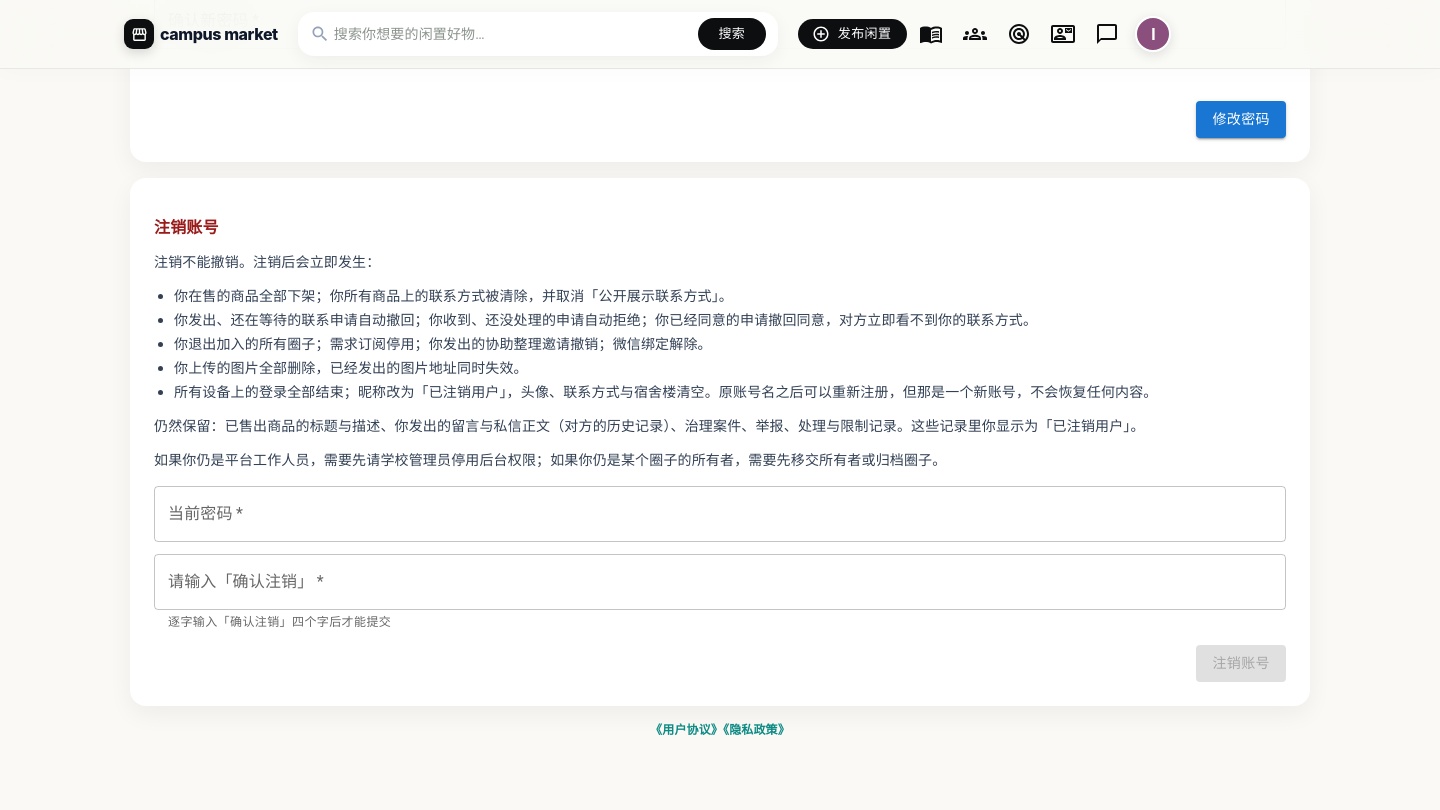
Test: 个人中心 → 账号与安全：注销 › 写明全部后果与保留的记录；没输入「确认注销」与密码前不能提交
(page scrolled)
Expected: the element "注销账号" shows "你在售的商品全部下架；你所有商品上的联系方式被清除，并取消「公开展示联系方式」。", [174,287,733,304]
Expected: the element "注销账号" shows "你发出、还在等待的联系申请自动撤回；你收到、还没处理的申请自动拒绝；你已经同意的申请撤回同意，对方立即看不到你的联系方式。", [174,311,1037,328]
Type "test-password" into the password field labelled "当前密码 *" at (720, 514), box [154,486,1286,542]
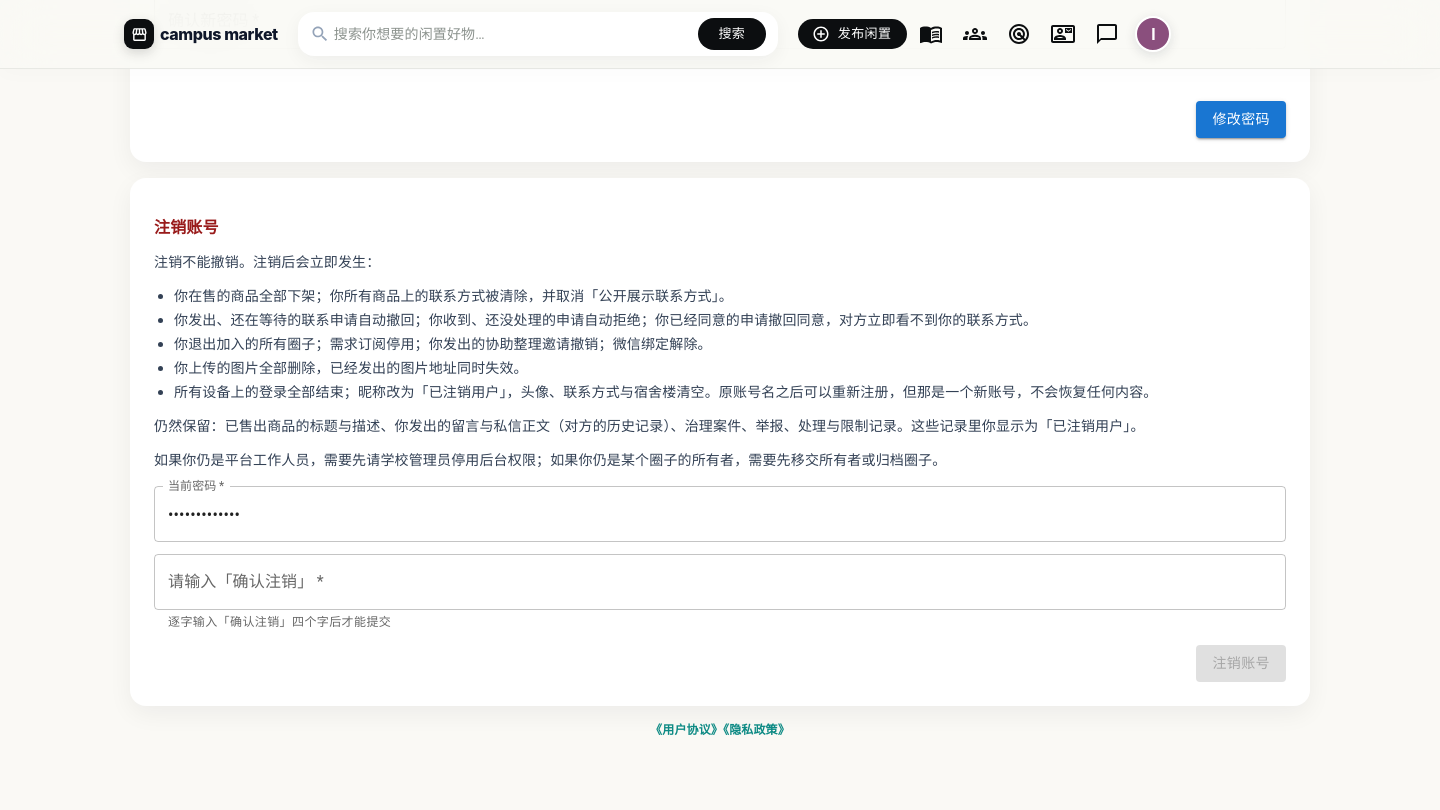
Type "确认" into the field labelled "请输入「确认注销」 *" at (720, 582), box [154,554,1286,610]
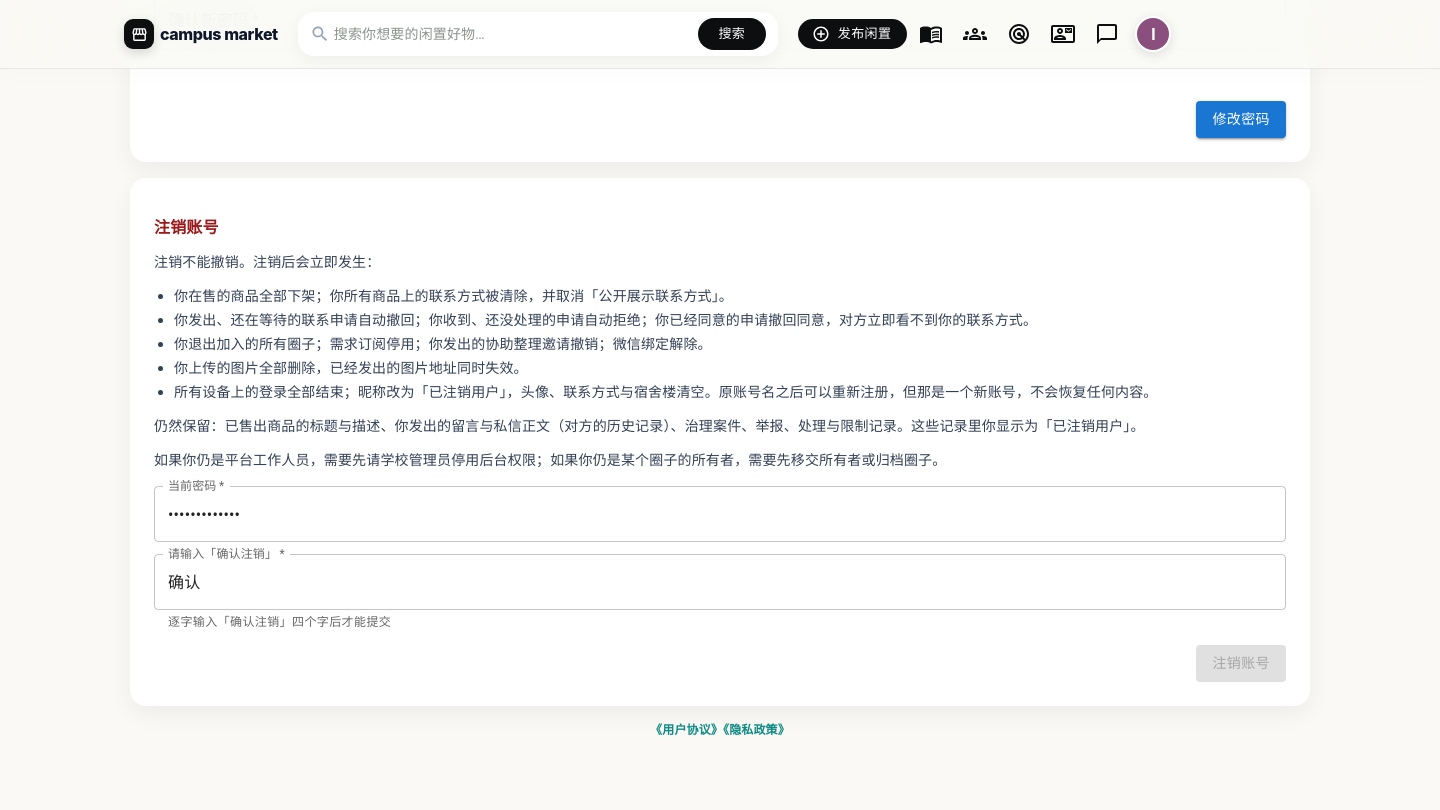
Expected: the button "注销账号" is disabled, [1196,645,1286,682]
Replace the text in the field labelled "请输入「确认注销」 *" with "确认注销" at (720, 582), box [154,554,1286,610]
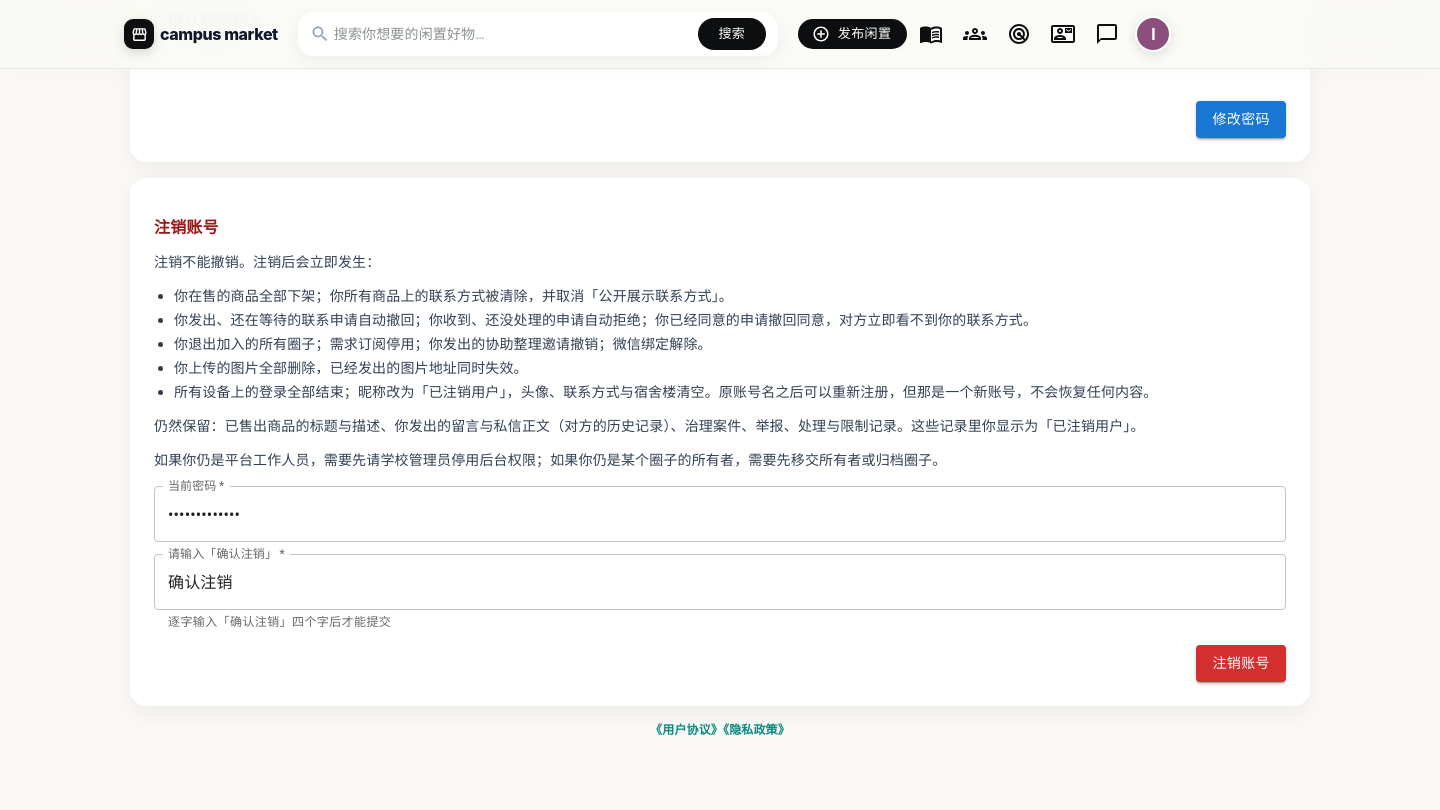
Now the button "注销账号" is enabled, box [1196,645,1286,682]
